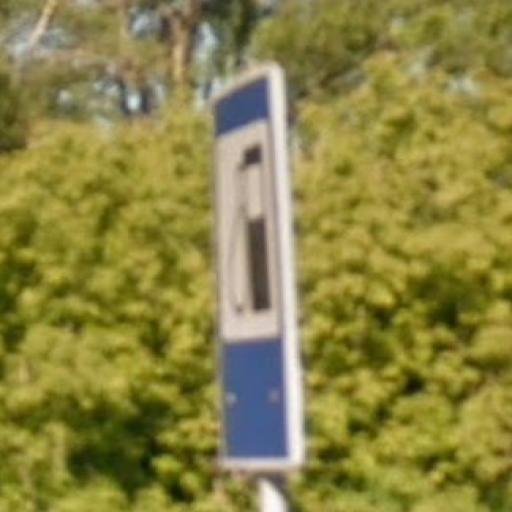traffic_sign: (208, 62, 311, 473)
